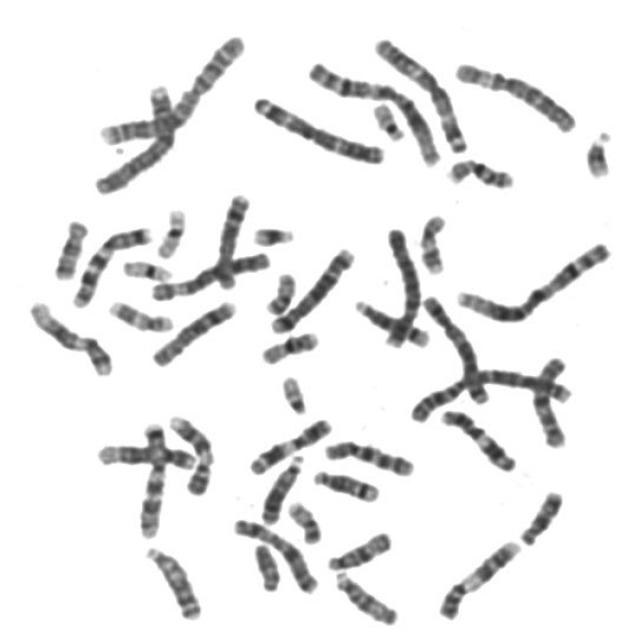A1: (301, 54, 447, 168), (448, 231, 616, 326)
A2: (91, 26, 249, 147), (402, 357, 576, 424)
A3: (368, 29, 472, 154), (246, 88, 388, 165)
B4: (86, 76, 180, 196), (377, 220, 426, 349)
B5: (414, 286, 493, 406), (264, 238, 359, 336)
C10: (318, 431, 418, 478), (526, 347, 572, 449)
C11: (241, 409, 336, 477), (434, 401, 519, 474)
C12: (20, 292, 116, 378), (90, 436, 199, 472)
C6: (447, 53, 581, 135), (143, 244, 273, 302)
C7: (65, 218, 156, 309), (132, 414, 170, 542)
C8: (144, 292, 240, 368), (207, 184, 253, 292)
C9: (432, 532, 524, 622), (161, 406, 216, 496)
D13: (137, 539, 205, 622), (254, 447, 306, 526)
D14: (346, 291, 432, 348), (306, 462, 384, 504)
D15: (329, 562, 402, 628), (321, 523, 395, 572)
E16: (440, 149, 517, 191), (254, 323, 322, 366)
E17: (102, 293, 176, 334), (413, 206, 451, 276)
E18: (514, 483, 566, 547), (46, 211, 91, 282)
F19: (149, 200, 189, 259), (116, 251, 175, 283)
F20: (280, 494, 326, 546), (259, 264, 299, 316)
G21: (578, 121, 616, 180), (246, 218, 298, 248)
G22: (366, 94, 410, 143), (275, 367, 311, 416)
X: (226, 510, 323, 596)
Y: (246, 537, 283, 593)
